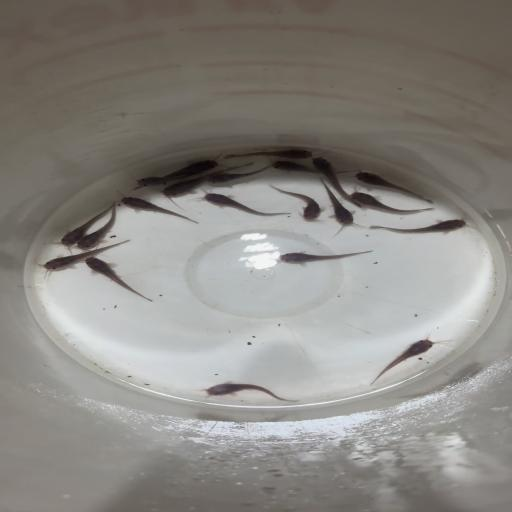lele: (366, 333, 447, 387), (160, 162, 254, 199), (37, 238, 132, 274), (83, 256, 154, 302), (308, 156, 362, 208), (355, 170, 435, 204), (201, 189, 292, 218), (53, 202, 112, 246), (115, 195, 201, 224), (194, 379, 300, 402), (348, 189, 435, 215), (267, 182, 325, 221), (75, 200, 118, 251), (316, 178, 358, 227), (363, 218, 472, 235), (270, 248, 375, 264), (206, 163, 275, 186), (267, 158, 360, 174), (223, 148, 314, 162), (166, 159, 219, 181), (128, 175, 202, 188)
